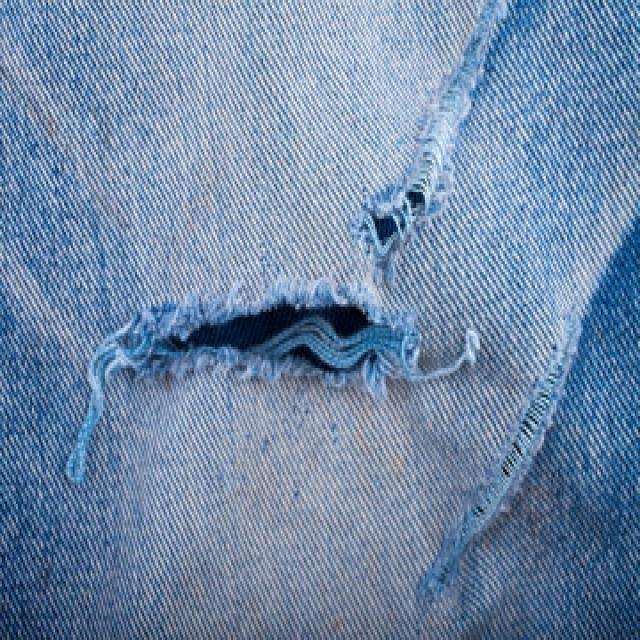Hole: (417, 312, 583, 608), (353, 0, 508, 280), (105, 284, 422, 396)
